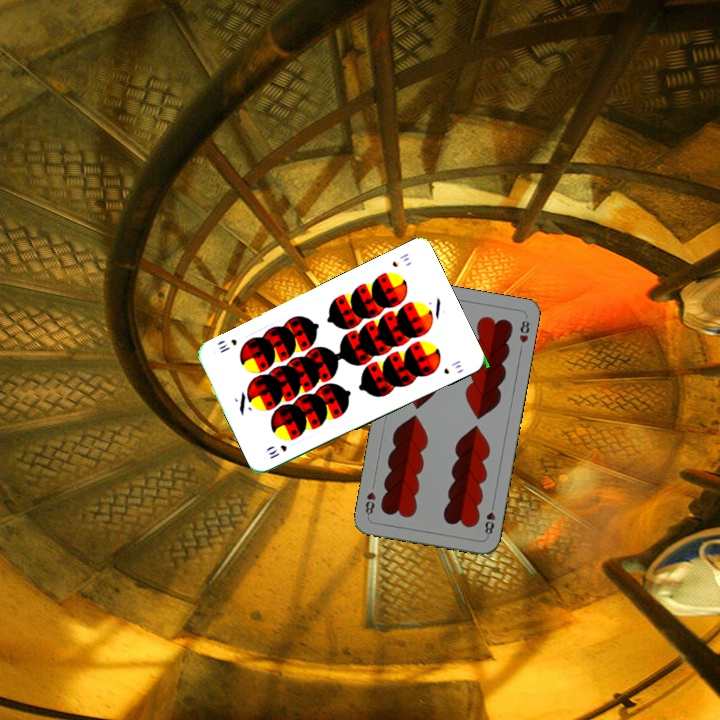H8: (481, 499, 498, 540)
S10: (264, 441, 289, 462), (388, 249, 412, 270)
